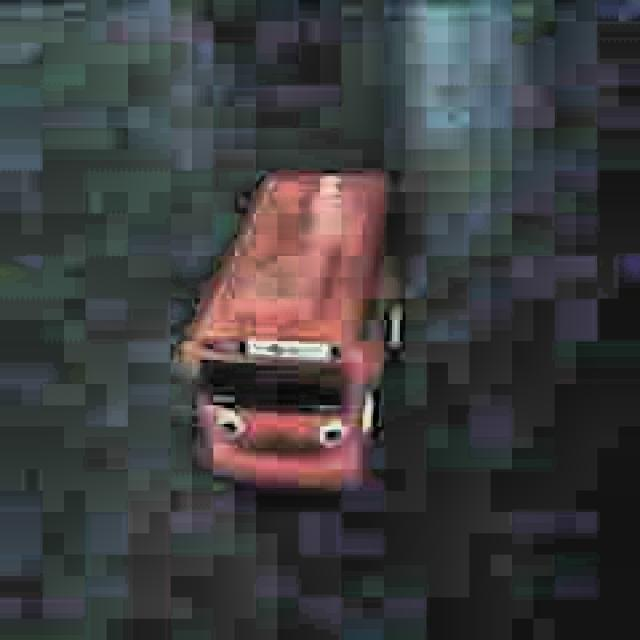bus: (168, 163, 410, 494)
